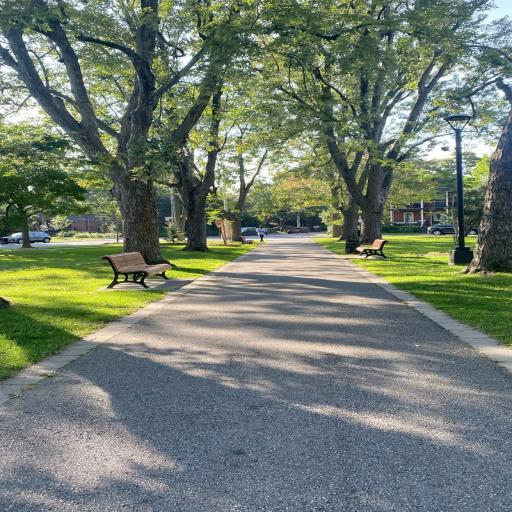phone: (450, 128, 473, 264), (455, 129, 465, 248)
shelf: (0, 237, 511, 511)
trash_bin: (101, 253, 174, 288), (356, 240, 388, 257), (240, 236, 253, 244)
